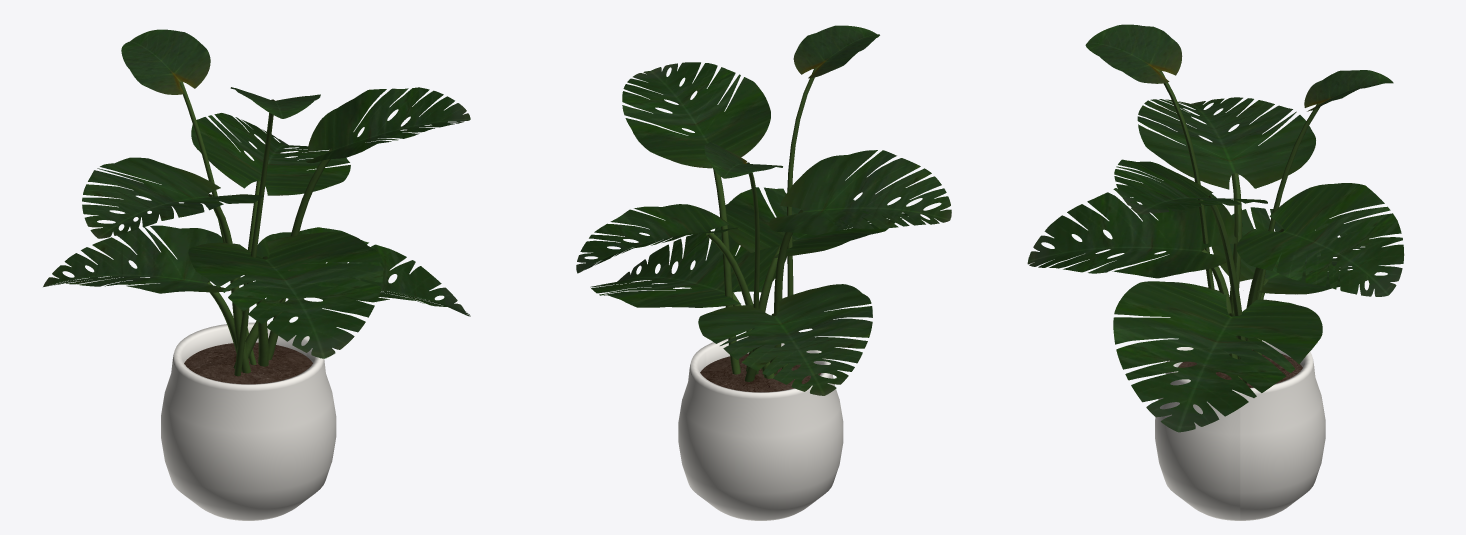
Rendered from monstera_70.glb.
The picture shows the model from 3 angles, left to right: view 1: azimuth 30°, elevation 25°; view 2: azimuth 150°, elevation 25°; view 3: azimuth 270°, elevation 25°; orthographic projection. The views are drawn at different scales.
Visible parts, largest first — view 1: monstera_70; view 2: monstera_70; view 3: monstera_70.
Part boxes in pixels (x1,y1,x2,y2): monstera_70: (43,29,470,520); monstera_70: (576,25,951,520); monstera_70: (1027,24,1404,520).
Bounding box in the file's own units: 0.65 × 0.7 × 0.62.
Materials: 3 (2 with a texture image).
